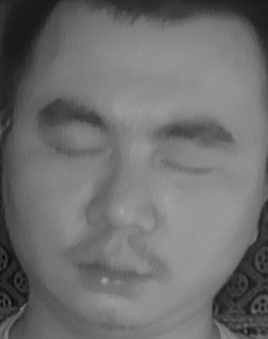blink: (159, 152, 215, 189), (54, 132, 107, 169)
mouth: (69, 239, 158, 297)
